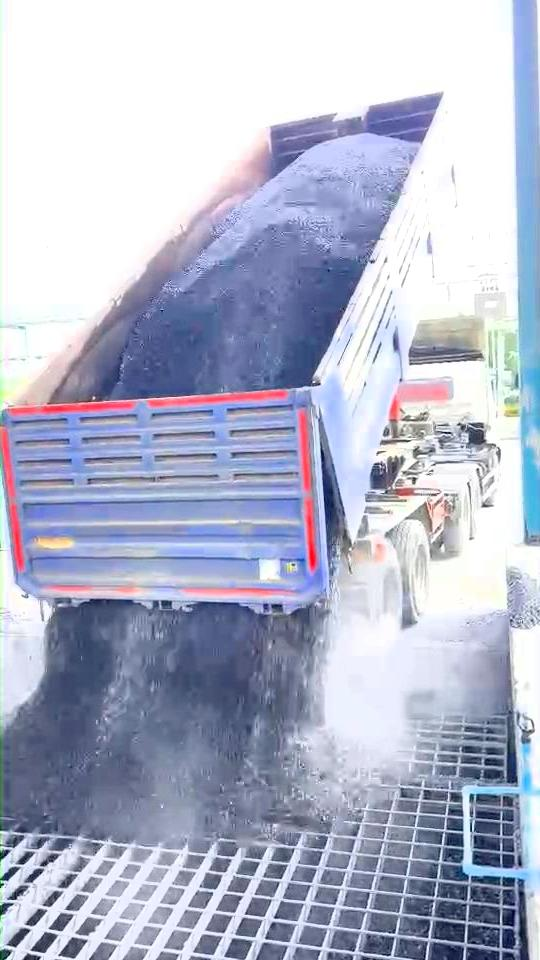gravel: (3, 604, 377, 840), (113, 134, 418, 397), (508, 566, 540, 629)
